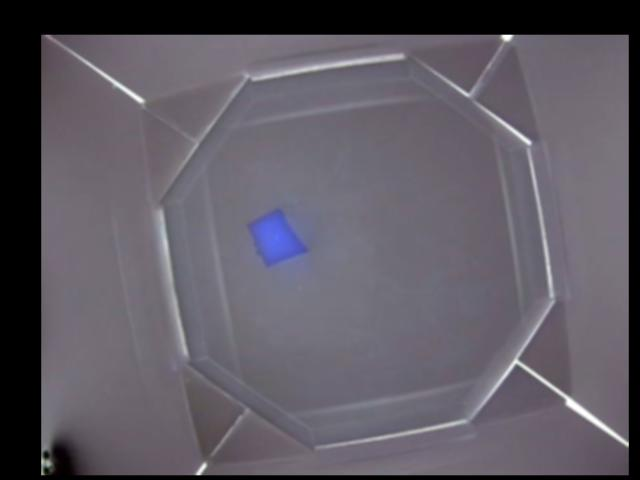Potato: (249, 210, 306, 270)
